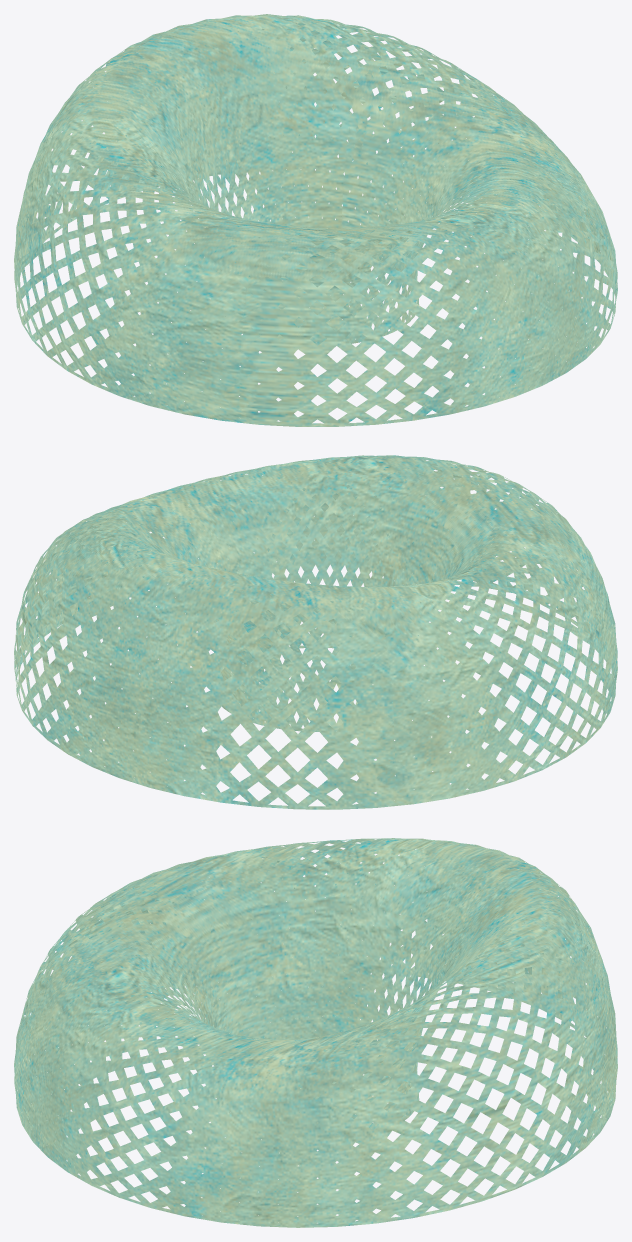
Rendered from Archi3.fbx.
The picture shows the model from 3 angles, top to bottom: view 1: azimuth 30°, elevation 25°; view 2: azimuth 150°, elevation 25°; view 3: azimuth 270°, elevation 25°; orthographic projection.
Parts seen in each view (by area): view 1: Organic_A.001; view 2: Organic_A.001; view 3: Organic_A.001.
Part boxes in pixels (x1,y1,x2,y2): Organic_A.001: (14,14,617,426); Organic_A.001: (14,455,617,809); Organic_A.001: (14,838,617,1227).
Size of the model in its own units: 19.71 by 19.71 by 7.2.
Materials: 1 (1 with a texture image).
